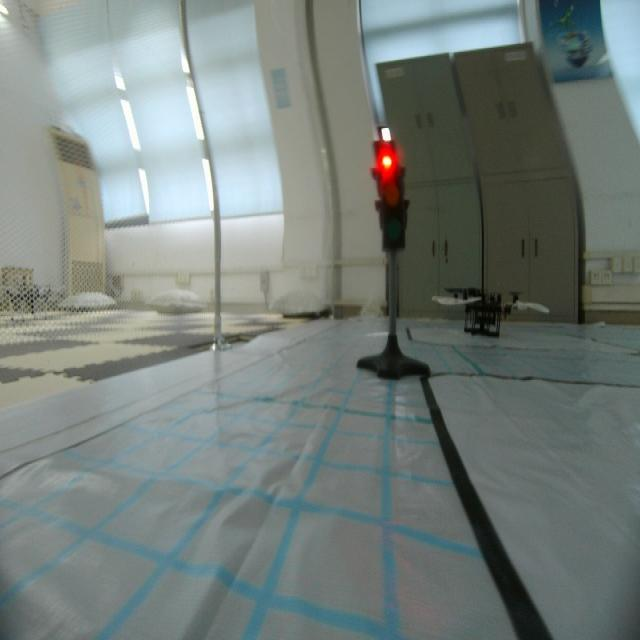red: (369, 139, 410, 257)
